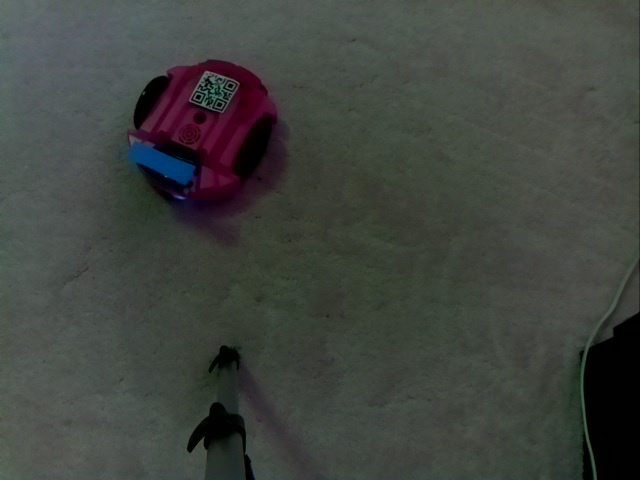board: (127, 140, 195, 188)
chassis: (127, 56, 281, 209)
